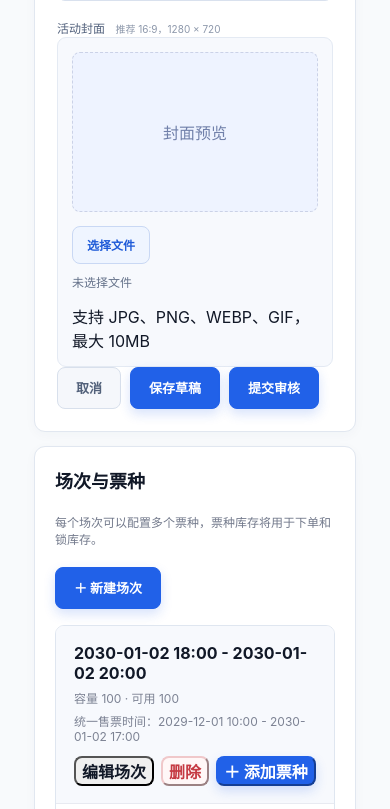
Test: saves the latest draft before submitting and stops when saving fails
(page scrolled)
Click the button "提交审核" at (274,388), box [229,367,319,409]
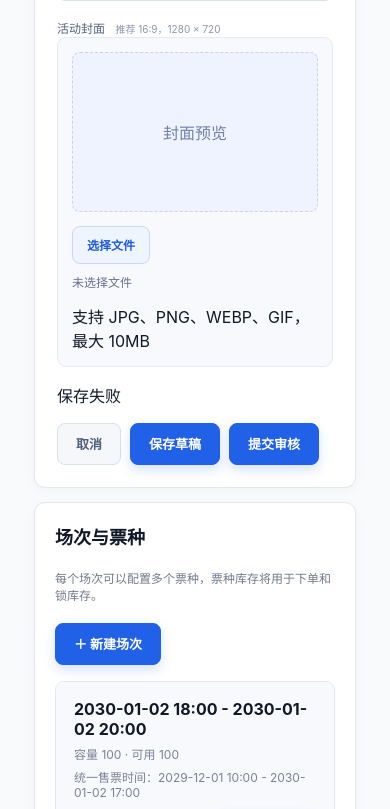
Expected: the text "保存失败" is shown, [57,386,121,406]
